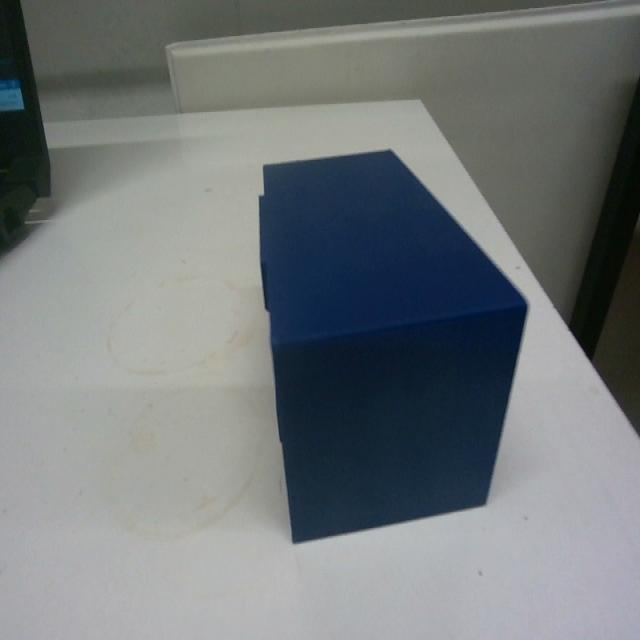Blue Cuboid: (254, 144, 530, 544)
